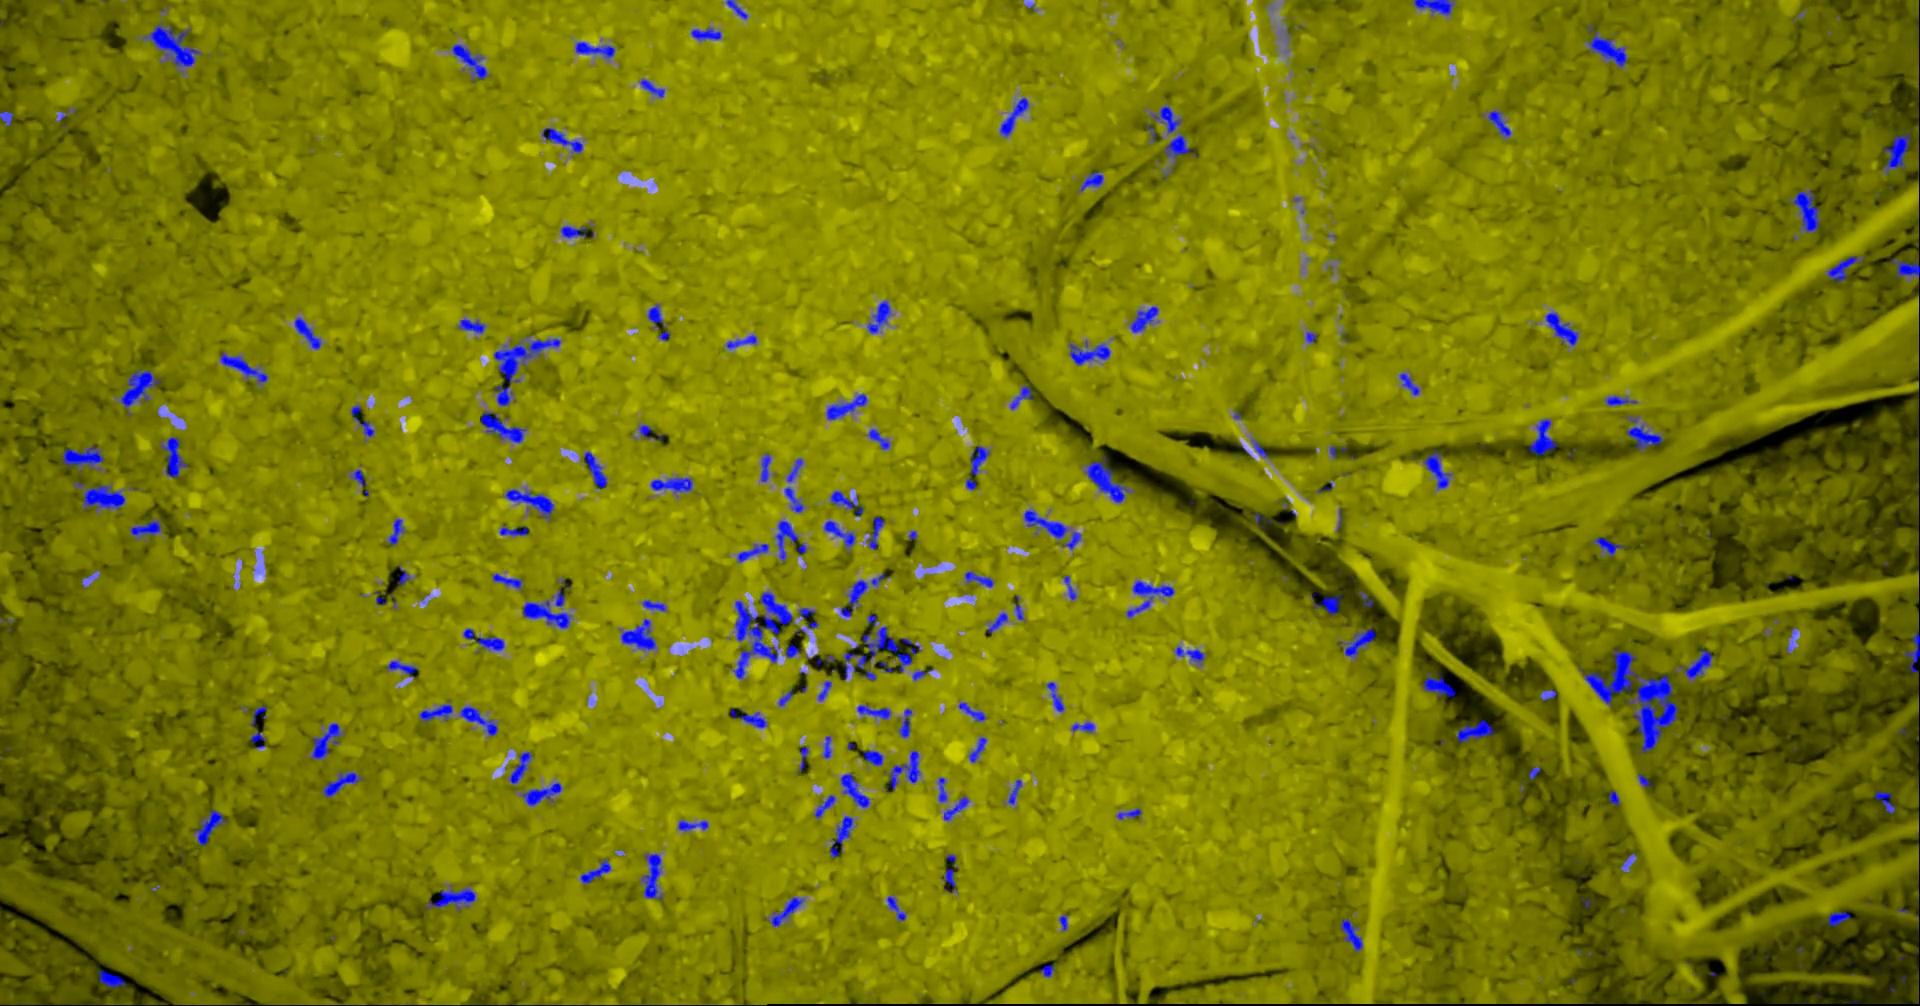ant: (1149, 103, 1196, 173), (1083, 455, 1134, 502), (1023, 509, 1081, 549), (841, 572, 889, 616), (117, 370, 161, 417), (1125, 580, 1175, 619), (503, 488, 554, 521), (1585, 30, 1627, 69), (218, 352, 267, 385), (480, 410, 526, 443), (72, 481, 124, 509), (451, 43, 488, 83), (1625, 414, 1663, 451), (522, 600, 571, 627), (309, 721, 344, 760), (1672, 648, 1713, 681), (1788, 189, 1818, 232), (888, 749, 919, 789), (193, 809, 226, 846), (764, 895, 804, 926), (425, 887, 475, 911), (999, 97, 1029, 137), (620, 619, 657, 650), (965, 445, 990, 490), (1337, 627, 1375, 658), (458, 705, 497, 735), (1882, 132, 1909, 174), (825, 392, 867, 419), (160, 436, 187, 478), (61, 445, 103, 471), (321, 770, 363, 796), (1422, 451, 1451, 489), (1545, 311, 1577, 345), (1528, 418, 1557, 455), (1068, 339, 1110, 365), (828, 815, 853, 857), (823, 520, 855, 553), (783, 457, 803, 512), (541, 127, 582, 152), (521, 781, 561, 807), (839, 772, 869, 807), (1825, 255, 1863, 281), (775, 520, 797, 561), (462, 627, 504, 650), (641, 852, 662, 899), (1455, 719, 1495, 743), (1903, 612, 1919, 672), (583, 451, 607, 488), (295, 316, 321, 349), (829, 490, 863, 516), (1421, 672, 1455, 697), (866, 298, 890, 333), (579, 857, 610, 884), (350, 404, 375, 437), (418, 699, 452, 721), (1890, 257, 1919, 283), (1129, 305, 1158, 332), (508, 751, 532, 782), (1340, 918, 1363, 951), (574, 41, 615, 58), (729, 708, 766, 727), (130, 518, 161, 540), (1590, 536, 1623, 556), (943, 795, 969, 821), (1010, 381, 1032, 409), (650, 476, 692, 492), (1412, 0, 1453, 15), (1312, 593, 1342, 614), (1487, 111, 1510, 137), (737, 542, 768, 561), (866, 516, 884, 549), (491, 572, 523, 589), (813, 794, 836, 818), (1045, 681, 1063, 711), (957, 702, 985, 721), (943, 854, 957, 892), (856, 704, 890, 719), (98, 969, 127, 987), (1079, 170, 1103, 191), (865, 428, 889, 448), (639, 77, 664, 97), (886, 895, 905, 921), (964, 570, 993, 587), (968, 735, 985, 762), (1398, 372, 1418, 395), (1175, 647, 1205, 662), (386, 661, 417, 676), (1874, 790, 1895, 813), (648, 304, 667, 328), (456, 318, 485, 333), (726, 334, 756, 349), (1821, 911, 1850, 926), (985, 612, 1007, 633), (897, 708, 910, 737), (387, 518, 403, 545), (690, 27, 721, 39), (637, 423, 662, 439), (1007, 779, 1022, 804), (725, 0, 747, 18), (249, 705, 267, 727), (677, 819, 709, 831), (560, 225, 587, 238), (1250, 439, 1269, 457), (1604, 395, 1637, 405), (1619, 852, 1636, 873), (1116, 807, 1142, 819), (862, 749, 883, 765), (1063, 575, 1076, 600), (817, 680, 830, 701), (759, 452, 770, 481), (499, 525, 528, 535), (249, 730, 265, 748), (1013, 594, 1025, 620), (797, 746, 809, 771), (641, 600, 665, 611), (936, 777, 947, 801), (350, 469, 366, 486), (1357, 589, 1373, 607), (777, 688, 792, 706), (397, 565, 410, 586), (910, 668, 932, 680), (1070, 721, 1095, 732), (551, 587, 564, 606), (1637, 774, 1652, 788), (1039, 963, 1055, 976), (797, 607, 815, 619), (0, 111, 13, 126), (1145, 123, 1156, 142), (1608, 790, 1620, 805), (1539, 688, 1556, 700), (785, 644, 799, 657), (823, 735, 830, 758), (375, 591, 387, 603), (1058, 913, 1067, 930), (1304, 332, 1317, 342)
